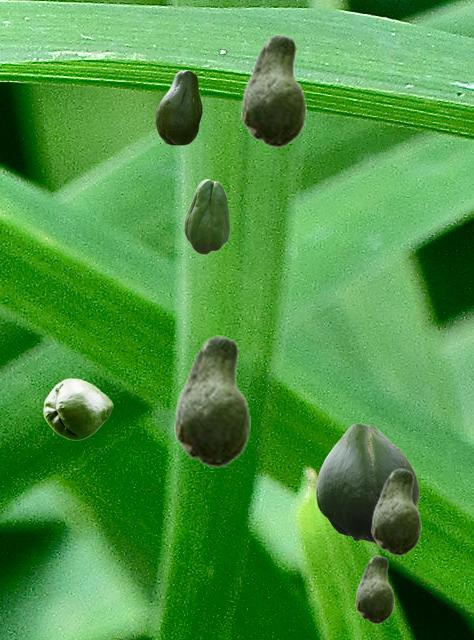sayote: (316, 423, 418, 543), (174, 335, 249, 467), (241, 34, 305, 147), (371, 468, 420, 555), (43, 378, 112, 439), (155, 70, 201, 144), (184, 179, 229, 253), (355, 555, 393, 623)
